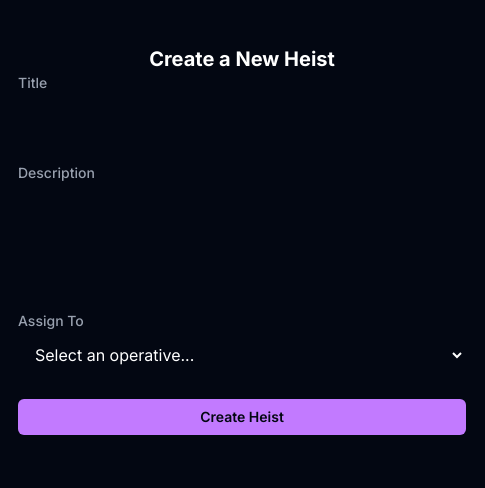
Test: CreateHeistPage › shows validation error when title is empty
Click the button "Create Heist": coordinates (242, 417) [18,399,466,435]
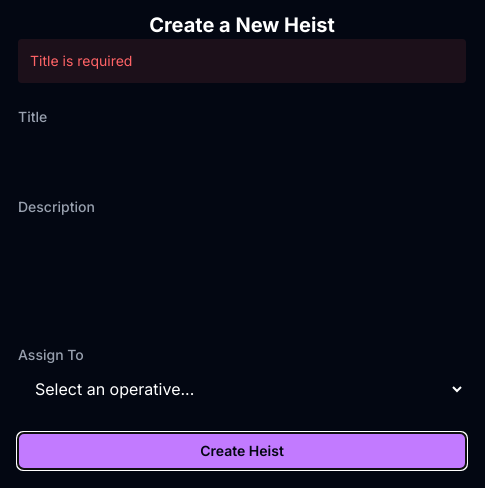
Result: the text "Title is required" is shown at [18,39,466,83]
